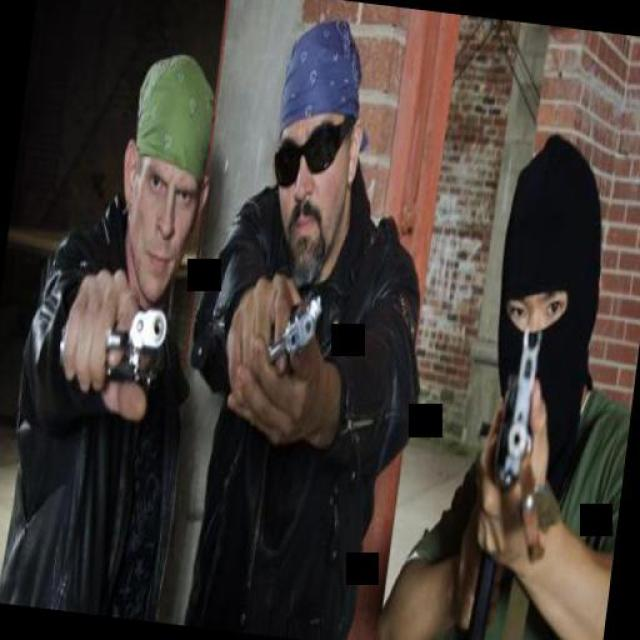gun: (463, 331, 542, 640), (224, 279, 322, 426), (54, 288, 168, 380)
